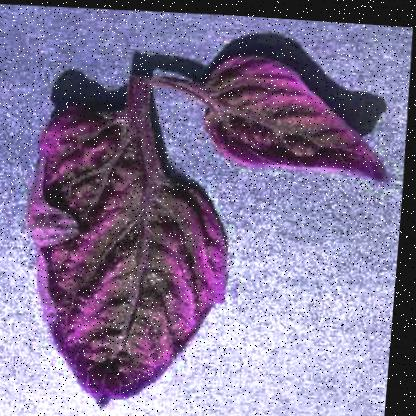Virus: (11, 23, 404, 415)
